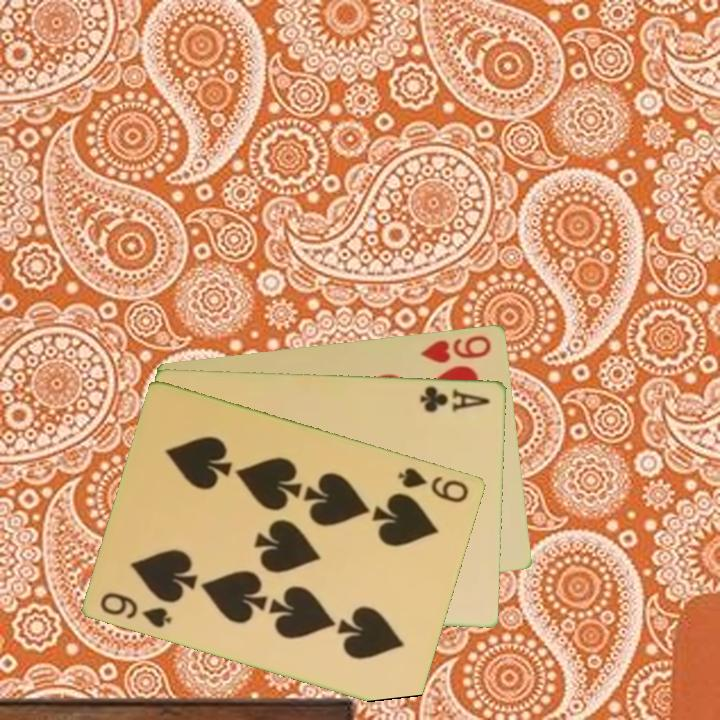9h: (417, 331, 494, 366)
9s: (97, 588, 175, 631), (395, 463, 472, 506)
Ac: (417, 382, 494, 415)
